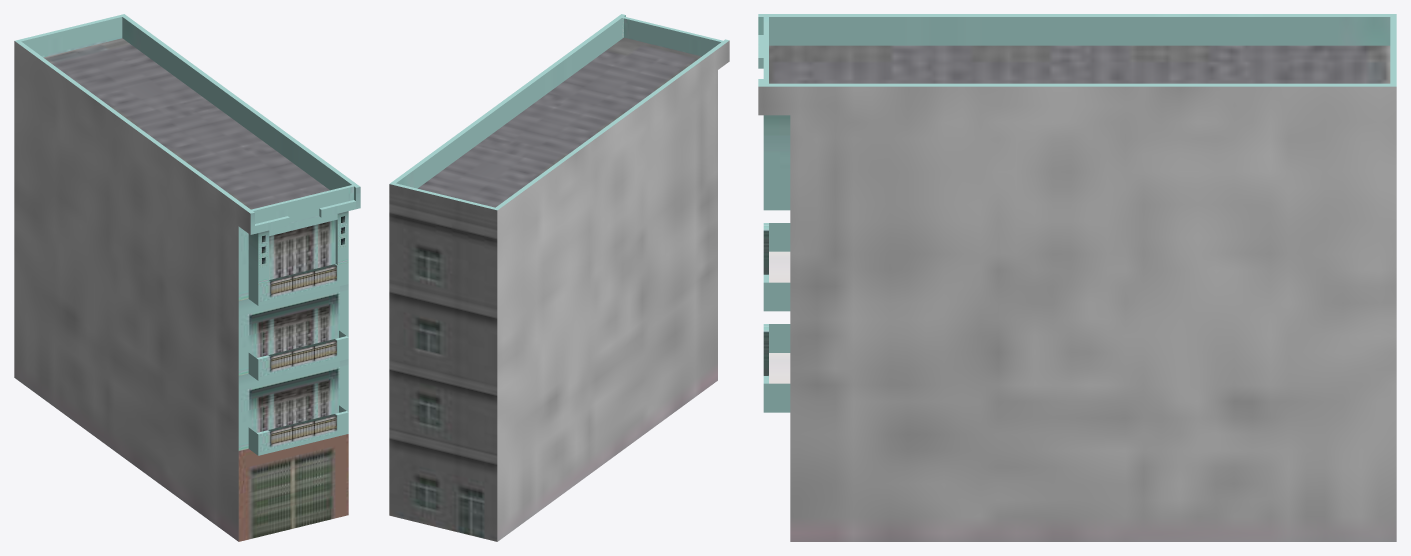
The picture shows the model from 3 angles, left to right: view 1: azimuth 30°, elevation 25°; view 2: azimuth 150°, elevation 25°; view 3: azimuth 270°, elevation 25°; orthographic projection. The views are drawn at different scales.
Visible parts, largest first — view 1: 5da93aa2c66a21164047c6a5.001; view 2: 5da93aa2c66a21164047c6a5.001; view 3: 5da93aa2c66a21164047c6a5.001.
Boxes of the visible parts, left/top/right/bottom form: 5da93aa2c66a21164047c6a5.001: left=14, top=14, right=360, bottom=541; 5da93aa2c66a21164047c6a5.001: left=389, top=14, right=729, bottom=541; 5da93aa2c66a21164047c6a5.001: left=758, top=14, right=1396, bottom=541.
Bounding box in the file's own units: 5.38 × 15.75 × 20.
Materials: 1 (1 with a texture image).
